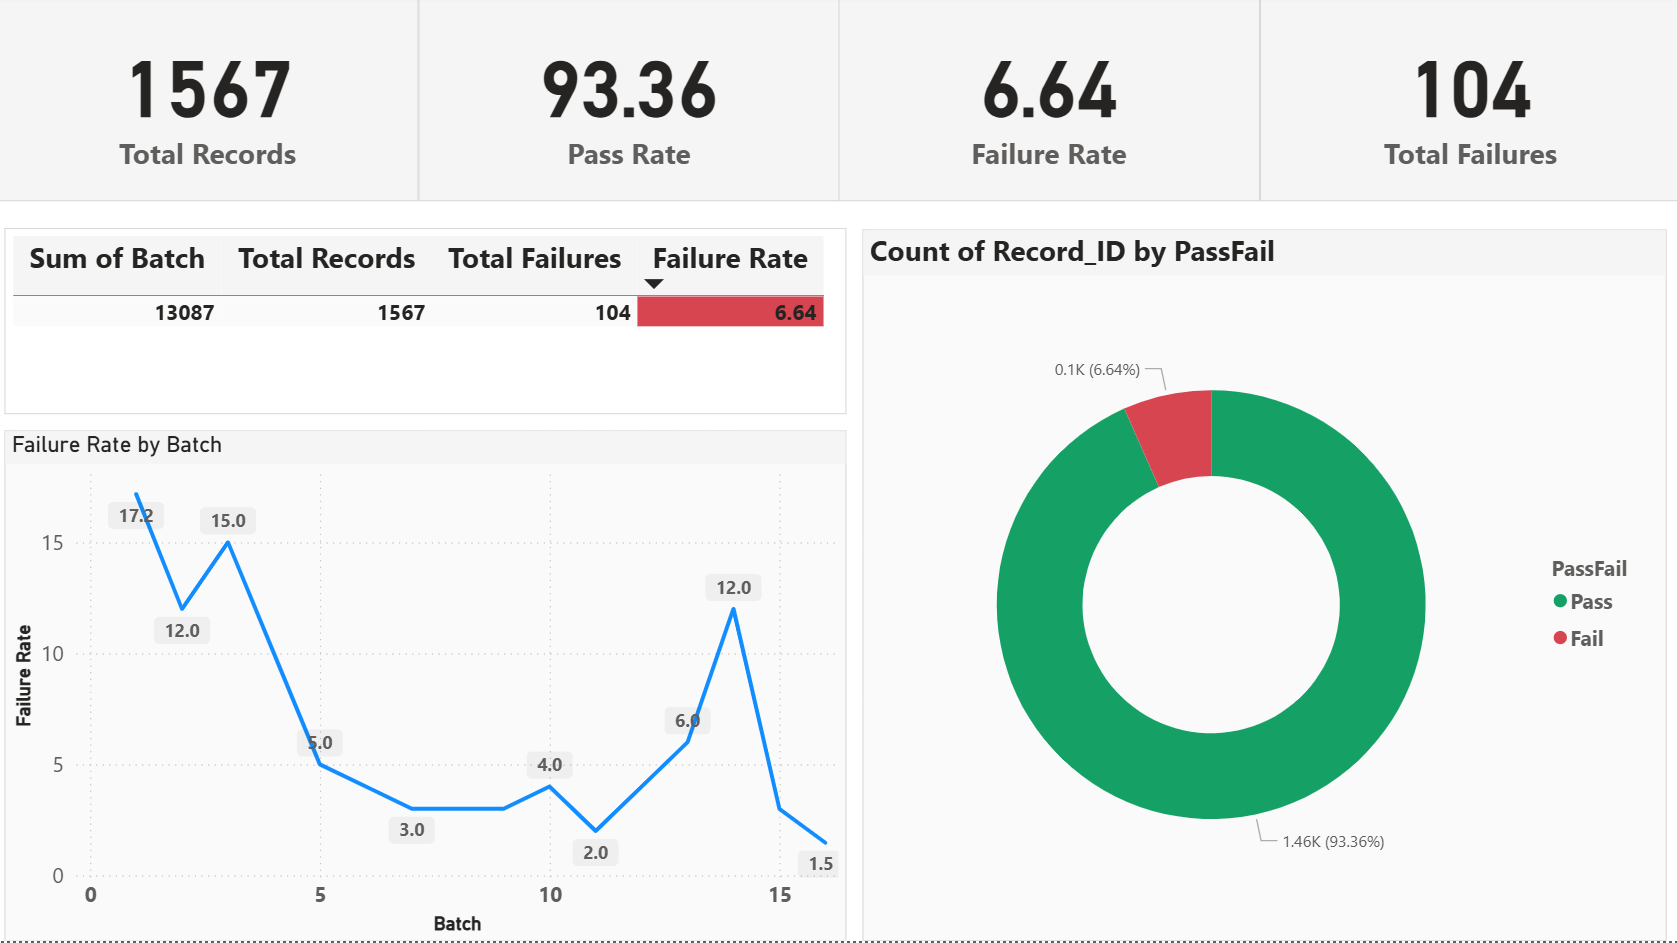

What the dashboard file says about the page in this screenshot:
{"tool":"powerbi","page":{"name":"Page 1","canvas":[1280,720],"ordinal":0},"visuals":[{"type":"card","fields":{"Values":["secom_cleaned.Total Records"]},"box":[0,0,319.7,157.6],"z":0},{"type":"card","fields":{"Values":["secom_cleaned.Pass Rate"]},"box":[319.7,0,319.7,157.6],"z":1000},{"type":"card","fields":{"Values":["secom_cleaned.Failure Rate"]},"box":[639.4,0,319.7,157.6],"z":2000},{"type":"card","fields":{"Values":["secom_cleaned.Total Failures"]},"box":[959.1,0,319.7,157.6],"z":3000},{"type":"donutChart","title":"Count of Record_ID by PassFail","fields":{"Y":["CountNonNull(secom_cleaned.Record_ID)"],"Category":["secom_cleaned.PassFail_Corrected"]},"box":[657.3,178.8,610.6,541.1],"z":4000},{"type":"tableEx","fields":{"Values":["Sum(secom_cleaned.Batch)","secom_cleaned.Total Records","secom_cleaned.Total Failures","secom_cleaned.Failure Rate"]},"box":[5.5,177.4,639.1,141.3],"z":5000},{"type":"lineChart","fields":{"Category":["secom_cleaned.Batch"],"Y":["secom_cleaned.Failure Rate"]},"box":[5.5,331.5,639.4,387.9],"z":6000}]}

Visuals, with their boxes in screenshot pixels (x1, y1, x2, y2), scaled from the page's 1280x720 canvas onto the 1677x943 screenshot:
card - secom_cleaned.Total Records: 0, 0, 419, 206
card - secom_cleaned.Pass Rate: 419, 0, 838, 206
card - secom_cleaned.Failure Rate: 838, 0, 1257, 206
card - secom_cleaned.Total Failures: 1257, 0, 1675, 206
"Count of Record_ID by PassFail" donutChart: 861, 234, 1661, 942
tableEx - Sum(secom_cleaned.Batch) x secom_cleaned.Total Records: 7, 232, 845, 417
lineChart - secom_cleaned.Batch x secom_cleaned.Failure Rate: 7, 434, 845, 942
